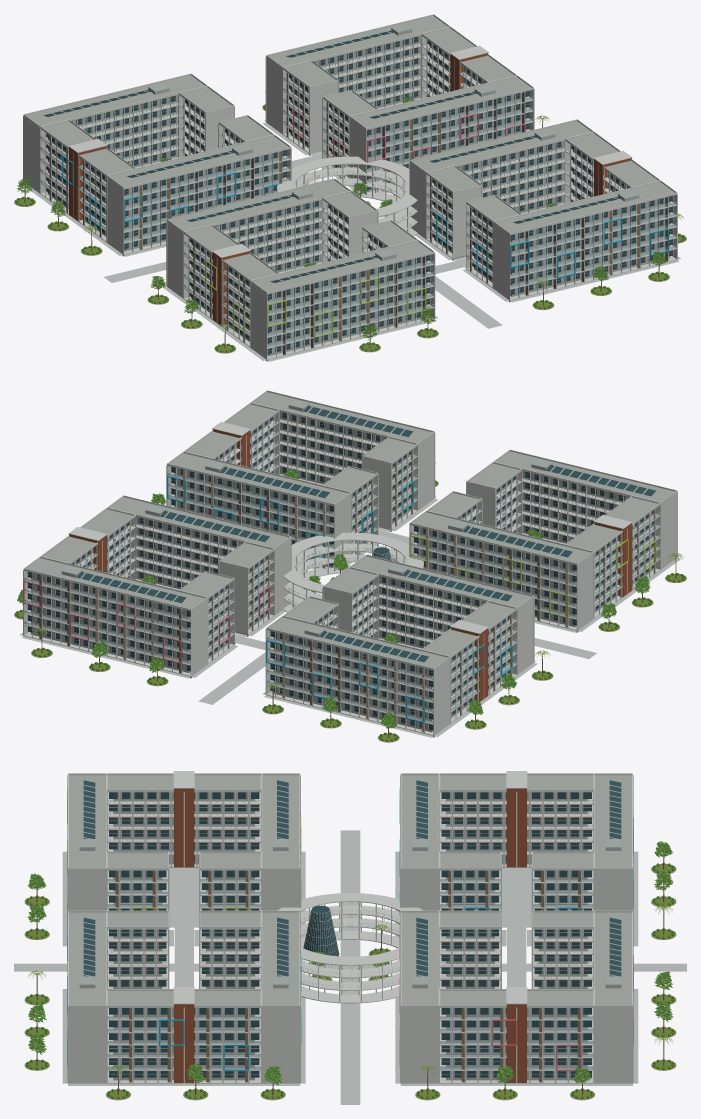
File: dorm52-lod0.glb
3 renders of one model, top to bottom at view 1: azimuth 30°, elevation 25°; view 2: azimuth 150°, elevation 25°; view 3: azimuth 270°, elevation 25°, orthographic. The views are drawn at different scales.
Parts seen in each view (by area): view 1: white balcony slabs and piers | ivory metal, flat roofs and parapets | roof, recessed dormitory rooms | room plaster, recessed windows | window, open gallery metal balustrades | gallery rail, private balcony glass panels | glass rail, brown balcony privacy louvers | bronze louver, continuous courtyard paving | pale paving, three level open shared ring slabs | ivory metal, red brick stair cores | brick, roof collector arrays | window, layered leaf canopy | leaf shadow (+7 smaller); view 2: white balcony slabs and piers | ivory metal, recessed dormitory rooms | room plaster, flat roofs and parapets | roof, recessed windows | window, open gallery metal balustrades | gallery rail, private balcony glass panels | glass rail, roof collector arrays | window, brown balcony privacy louvers | bronze louver, continuous courtyard paving | pale paving, three level open shared ring slabs | ivory metal, red brick stair cores | brick, layered leaf canopy | leaf shadow (+7 smaller); view 3: white balcony slabs and piers | ivory metal, flat roofs and parapets | roof, recessed windows | window, recessed dormitory rooms | room plaster, continuous courtyard paving | pale paving, open gallery metal balustrades | gallery rail, three level open shared ring slabs | ivory metal, red brick stair cores | brick, private balcony glass panels | glass rail, roof collector arrays | window, brown balcony privacy louvers | bronze louver, courtyard and perimeter planted lawns | lawn (+10 smaller).
Part boxes in pixels (x1,y1,x2,y2): white balcony slabs and piers | ivory metal: [23, 14, 677, 359]; flat roofs and parapets | roof: [26, 16, 674, 292]; recessed dormitory rooms | room plaster: [47, 24, 669, 355]; recessed windows | window: [46, 36, 672, 354]; open gallery metal balustrades | gallery rail: [40, 38, 676, 352]; private balcony glass panels | glass rail: [40, 77, 676, 347]; brown balcony privacy louvers | bronze louver: [49, 73, 667, 354]; continuous courtyard paving | pale paving: [21, 120, 680, 361]; three level open shared ring slabs | ivory metal: [277, 156, 417, 236]; red brick stair cores | brick: [69, 53, 631, 325]; roof collector arrays | window: [43, 30, 622, 282]; layered leaf canopy | leaf shadow: [17, 92, 666, 339]; white balcony slabs and piers | ivory metal: [23, 390, 677, 735]; recessed dormitory rooms | room plaster: [31, 400, 653, 732]; flat roofs and parapets | roof: [26, 392, 674, 668]; recessed windows | window: [28, 413, 654, 730]; open gallery metal balustrades | gallery rail: [24, 414, 660, 728]; private balcony glass panels | glass rail: [24, 453, 660, 723]; roof collector arrays | window: [76, 405, 655, 662]; brown balcony privacy louvers | bronze louver: [39, 450, 654, 732]; continuous courtyard paving | pale paving: [20, 496, 680, 737]; three level open shared ring slabs | ivory metal: [283, 532, 423, 612]; red brick stair cores | brick: [69, 429, 631, 701]; layered leaf canopy | leaf shadow: [17, 469, 650, 728]; white balcony slabs and piers | ivory metal: [67, 771, 633, 1083]; flat roofs and parapets | roof: [69, 775, 631, 1005]; recessed windows | window: [109, 792, 591, 1077]; recessed dormitory rooms | room plaster: [79, 792, 621, 1080]; continuous courtyard paving | pale paving: [14, 830, 686, 1104]; open gallery metal balustrades | gallery rail: [107, 792, 592, 1077]; three level open shared ring slabs | ivory metal: [278, 893, 422, 1003]; red brick stair cores | brick: [174, 788, 526, 1082]; private balcony glass panels | glass rail: [107, 879, 593, 1069]; roof collector arrays | window: [83, 780, 621, 976]; brown balcony privacy louvers | bronze louver: [115, 782, 580, 1082]; courtyard and perimeter planted lawns | lawn: [25, 864, 675, 1099].
Size of the model in its own units: 168 by 23.41 by 174.
